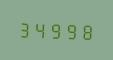eight: (78, 20, 92, 41)
four: (33, 19, 47, 39)
nine: (48, 19, 62, 40), (63, 20, 77, 40)
three: (18, 18, 32, 39)
